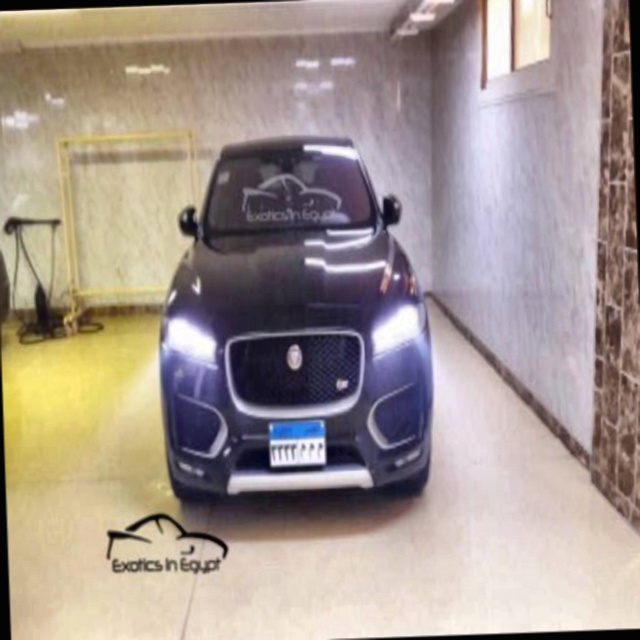License Plate: (267, 415, 329, 472)
